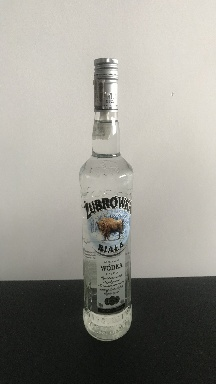butelka: (77, 54, 134, 343)
